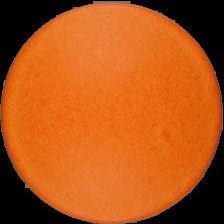57896-921: (0, 0, 224, 224)
